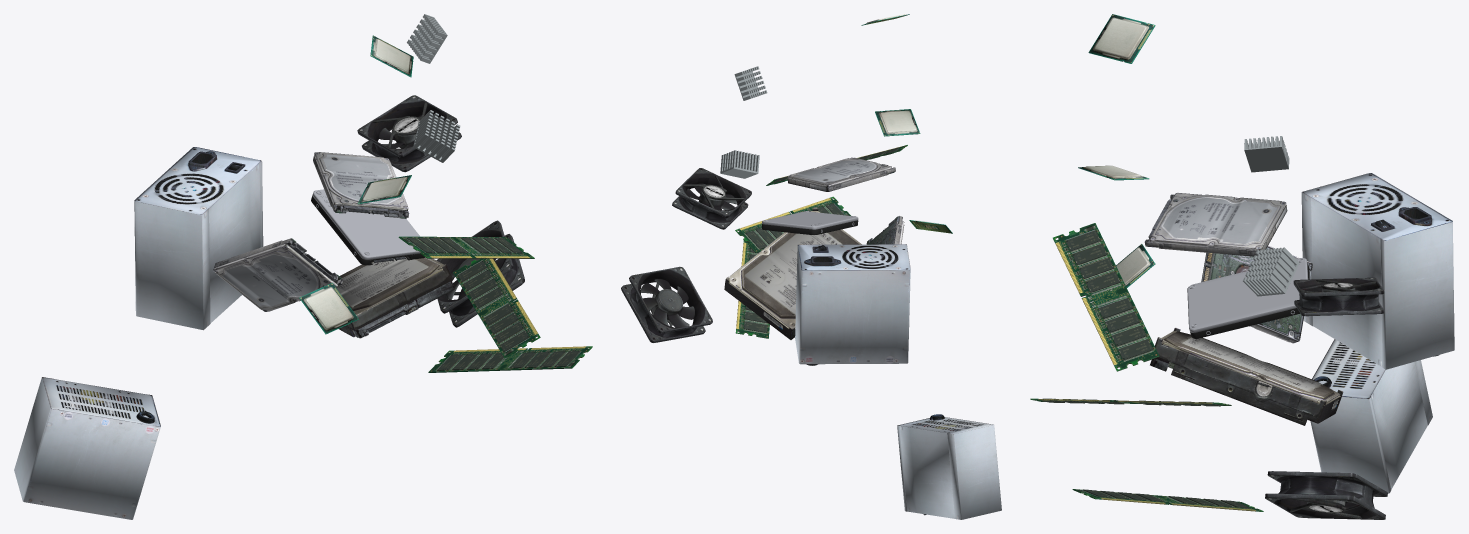
3 renders of one model, left to right at view 1: azimuth 30°, elevation 25°; view 2: azimuth 150°, elevation 25°; view 3: azimuth 270°, elevation 25°, orthographic. The views are drawn at different scales.
Visible parts, largest first — view 1: PSU (×2), PSU.001 (×2), 2.5inch_HDD.005, RAM.002, 3.5inch_HDD.004, 2.5inch_SSD, FAN.004 (×3), RAM, 2.5inch_HDD.003, RAM.001, FAN.000 (×2), CPU (+6 smaller); view 2: PSU (×2), PSU.001 (×2), 3.5inch_HDD.004, FAN.000 (×2), FAN.004 (×3), 2.5inch_SSD (×2), FAN.001, 2.5inch_HDD.003, RAM.002, RAM, CPU.001, HeatSink (+3 smaller); view 3: PSU (×2), PSU.001 (×2), RAM.001, 2.5inch_HDD.003, 2.5inch_SSD (×2), FAN.000 (×3), 3.5inch_HDD.003, 3.5inch_HDD.004, FAN.004 (×2), CPU.002, HeatSink, 2.5inch_HDD.004 (+6 smaller).
Boxes of the visible parts, x1=… form: PSU (×2): x1=134, y1=147, x2=263, y2=330; PSU.001 (×2): x1=14, y1=377, x2=160, y2=519; 2.5inch_HDD.005: x1=213, y1=246, x2=337, y2=311; RAM.002: x1=453, y1=258, x2=540, y2=358; 3.5inch_HDD.004: x1=336, y1=257, x2=443, y2=314; 2.5inch_SSD: x1=312, y1=189, x2=420, y2=259; FAN.004 (×3): x1=357, y1=95, x2=461, y2=172; RAM: x1=428, y1=346, x2=592, y2=372; 2.5inch_HDD.003: x1=314, y1=152, x2=408, y2=208; RAM.001: x1=398, y1=236, x2=534, y2=258; FAN.000 (×2): x1=436, y1=220, x2=524, y2=327; CPU: x1=299, y1=283, x2=358, y2=334; PSU (×2): x1=795, y1=244, x2=910, y2=364; PSU.001 (×2): x1=897, y1=417, x2=1001, y2=519; 3.5inch_HDD.004: x1=729, y1=211, x2=861, y2=327; FAN.000 (×2): x1=621, y1=266, x2=712, y2=342; FAN.004 (×3): x1=672, y1=168, x2=751, y2=229; 2.5inch_SSD (×2): x1=762, y1=211, x2=858, y2=234; FAN.001: x1=640, y1=279, x2=694, y2=327; 2.5inch_HDD.003: x1=787, y1=157, x2=891, y2=185; RAM.002: x1=735, y1=196, x2=850, y2=252; RAM: x1=735, y1=240, x2=769, y2=338; CPU.001: x1=875, y1=109, x2=920, y2=136; HeatSink: x1=720, y1=150, x2=759, y2=178; PSU (×2): x1=1301, y1=173, x2=1454, y2=369; PSU.001 (×2): x1=1310, y1=339, x2=1432, y2=493; RAM.001: x1=1053, y1=223, x2=1159, y2=371; 2.5inch_HDD.003: x1=1150, y1=193, x2=1285, y2=249; 2.5inch_SSD (×2): x1=1187, y1=258, x2=1309, y2=338; FAN.000 (×3): x1=1265, y1=471, x2=1387, y2=519; 3.5inch_HDD.003: x1=1155, y1=328, x2=1342, y2=425; 3.5inch_HDD.004: x1=1161, y1=331, x2=1340, y2=402; FAN.004 (×2): x1=1293, y1=277, x2=1384, y2=316; CPU.002: x1=1088, y1=14, x2=1155, y2=63; HeatSink: x1=1243, y1=247, x2=1299, y2=296; 2.5inch_HDD.004: x1=1210, y1=245, x2=1312, y2=341.
Bounding box in the file's own units: 16.34 × 16.28 × 11.39.
Materials: 25 (22 with a texture image).
